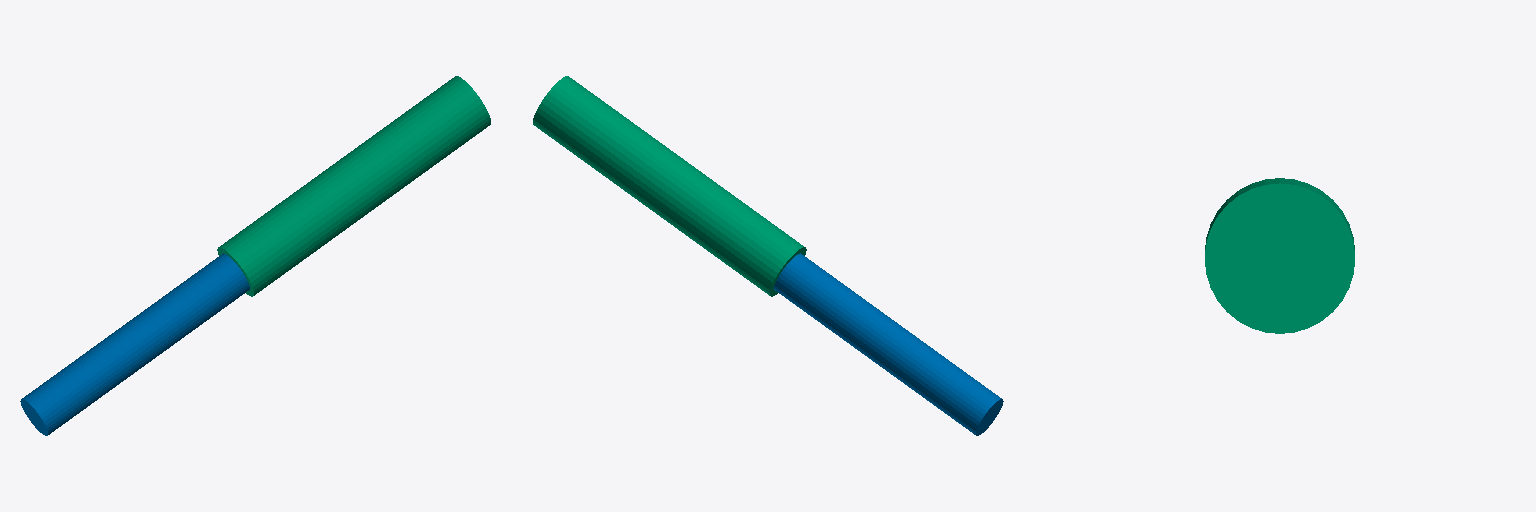
robot.urdf — allegro_arm:
<?xml version="1.0" ?>
<!-- =================================================================================== -->
<!-- |    This document was autogenerated by xacro from allegro_hand_description_right.xacro | -->
<!-- |    EDITING THIS FILE BY HAND IS NOT RECOMMENDED                                 | -->
<!-- =================================================================================== -->
<robot name="allegro_arm" xmlns:xacro="http://www.ros.org/wiki/xacro">
  <!-- ======================== BASE PARAMS ========================= -->
  <!-- ======================== FINGER PARAMS ======================== -->
  <!-- full height from joint to tip. when used,
    the radius of the finger tip sphere will be subtracted
    and one fixed link will be added for the tip. -->
  <!-- ========================= THUMB PARAMS ========================= -->
  <!-- ========================= LIMITS ========================= -->
  <!-- ============================================================================= -->
  <!-- PALM -->
  <link name="hand_root">
    <inertial>
      <mass value="1.0"/>
      <origin rpy="0 0 0" xyz="0 0 0"/>
      <inertia ixx="1.01666658333e-06" ixy="0.0" ixz="0.0" iyy="6.47677333333e-07" iyz="0.0" izz="1.01666658333e-06"/>
    </inertial>
  </link>
  <link name="aux_upper_arm">
    <inertial>
      <mass value="0.0001"/>
      <origin rpy="0 0 0" xyz="0 0 0"/>
      <inertia ixx="1.01666658333e-06" ixy="0.0" ixz="0.0" iyy="6.47677333333e-07" iyz="0.0" izz="1.01666658333e-06"/>
    </inertial>      
  </link>
  <joint name="shoulder_0" type="revolute">
    <axis xyz="1 0 0"/>
    <limit effort="15" lower="-3.1415" upper="3.1415" velocity="7"/>
    <parent link="hand_root"/>
    <child link="aux_upper_arm"/>
    <origin rpy="0 2 3.1416" xyz="0.5 0.0 0.2"/>
    <dynamics damping="3" friction="0"/>
  </joint>
  <link name="upper_arm">
    <visual>
      <geometry>
        <cylinder length="0.4" radius="0.04"/>
      </geometry>
      <origin rpy="0 0 0" xyz="0 0 0.2"/>
    </visual>
    <inertial>
      <mass value="1.0"/>
      <origin rpy="0 0 0" xyz="0 0 0.2"/>
      <inertia ixx="1.01666658333e-06" ixy="0.0" ixz="0.0" iyy="6.47677333333e-07" iyz="0.0" izz="1.01666658333e-06"/>
    </inertial>
  </link>
  <joint name="shoulder_1" type="revolute">
    <axis xyz="0 1 0"/>
    <limit effort="15" lower="-3.1415926" upper="3.1415926" velocity="7"/>
    <parent link="aux_upper_arm"/>
    <child link="upper_arm"/>
    <origin rpy="0 0 0" xyz="0 0 0"/>
    <dynamics damping="3" friction="0"/>
  </joint>

  <link name="aux_forearm">
    <inertial>
      <mass value="0.0001"/>
      <origin rpy="0 0 0" xyz="0 0 0"/>
      <inertia ixx="1.01666658333e-06" ixy="0.0" ixz="0.0" iyy="6.47677333333e-07" iyz="0.0" izz="1.01666658333e-06"/>
    </inertial> 
  </link>
  <joint name="elbow_0" type="revolute">
    <axis xyz="0 0 1"/>
    <limit effort="15" lower="-2.0" upper="2.0" velocity="7"/>
    <parent link="upper_arm"/>
    <child link="aux_forearm"/>
    <origin rpy="0 0 0" xyz="0 0.0 0.4"/>
    <dynamics damping="3" friction="0"/>
  </joint>
  <link name="forearm">
    <visual>
      <geometry>
        <cylinder length="0.34" radius="0.03"/>
      </geometry>
      <origin rpy="0 0 0" xyz="0 0 0.17"/>
    </visual>
    <inertial>
      <mass value="1.0"/>
      <origin rpy="0 0 0" xyz="0 0 0.17"/>
      <inertia ixx="1.01666658333e-06" ixy="0.0" ixz="0.0" iyy="6.47677333333e-07" iyz="0.0" izz="1.01666658333e-06"/>
    </inertial>
  </link>
  <joint name="elbow_1" type="revolute">
    <axis xyz="0 1 0"/>
    <limit effort="15" lower="-2.00" upper="2.0" velocity="7"/>
    <parent link="aux_forearm"/>
    <child link="forearm"/>
    <origin rpy="0 0 0" xyz="0 0 0"/>
    <dynamics damping="3" friction="0"/>
  </joint>
  <link name="palm_link">
    <visual>
      <geometry>
        <mesh filename="../meshes/base_link.STL"/>
      </geometry>
      <origin rpy="0 0 0" xyz="0 0 0.1 "/>
      <material name="black">
        <color rgba="0.2 0.2 0.2 1"/>
      </material>
    </visual>
    <collision>
      <origin rpy="0 0 0" xyz="-0.009300 0 0.0525"/>
      <geometry>
        <box size="0.0408 0.1130 0.095"/>
      </geometry>
    </collision>
    <inertial>
      <origin rpy="0 0 0" xyz="0 0 0.1475"/>
      <mass value="0.4154"/>
      <inertia ixx="1e-4" ixy="0.0" ixz="0.0" iyy="1e-4" iyz="0.0" izz="1e-4"/>
    </inertial>
  </link>
  <joint name="wrist_0" type="revolute">
    <axis xyz="0 1 0"/>
    <limit effort="15" lower="-1.47" upper="1.47" velocity="7"/>
    <parent link="forearm"/>
    <child link="palm_link"/>
    <origin rpy="0 0 0" xyz="0 0.0 0.34"/>
    <dynamics damping="3" friction="0"/>
  </joint>
  <!-- ============================================================================= -->
  <!-- FINGERS -->
  <!-- RIGHT HAND due to which finger is number 0 -->
  <!-- for LEFT HAND switch the sign of the **offset_origin_y** and **finger_angle_r** parameters-->
  <!-- [LINK 0, 4, 8] -->
  <link name="link_0">
    <visual>
      <geometry>
        <mesh filename="../meshes/link_0.0.STL"/>
      </geometry>
      <material name="black"/>
    </visual>
    <collision>
      <geometry>
        <box size="0.0196 0.0275 0.0164"/>
      </geometry>
      <origin rpy="0 0 0" xyz="0 0 0.0082"/>
    </collision>
    <inertial>
      <mass value="0.0119"/>
      <origin rpy="0 0 0" xyz="0 0 0"/>
      <inertia ixx="1.01666658333e-06" ixy="0.0" ixz="0.0" iyy="6.47677333333e-07" iyz="0.0" izz="1.01666658333e-06"/>
    </inertial>
  </link>
  <joint name="joint_0" type="revolute">
    <axis xyz="0 0 1"/>
    <limit effort="15" lower="-0.47" upper="0.47" velocity="7"/>
    <parent link="palm_link"/>
    <child link="link_0"/>
    <origin rpy="-0.08726646255 0 0" xyz="0 0.0435 0.098458"/>
    <dynamics damping="3" friction="0"/>
  </joint>
  <!-- [LINK 1, 5, 9] -->
  <link name="link_1">
    <visual>
      <geometry>
        <mesh filename="../meshes/link_1.0.STL"/>
      </geometry>
      <material name="black"/>
    </visual>
    <collision>
      <geometry>
        <box size="0.0196 0.0275 0.054"/>
      </geometry>
      <origin rpy="0 0 0" xyz="0 0 0.027"/>
    </collision>
    <inertial>
      <mass value="0.065"/>
      <origin rpy="0 0 0" xyz="0 0 0"/>
      <inertia ixx="7.19218e-05" ixy="0" ixz="0" iyy="7.4377e-05" iyz="7.32186e-07" izz="5.40622e-06"/>
    </inertial>
  </link>
  <joint name="joint_1" type="revolute">
    <limit effort="15" lower="-0.196" upper="1.61" velocity="7"/>
    <axis xyz="0 1 0"/>
    <parent link="link_0"/>
    <child link="link_1"/>
    <origin xyz="0 0 0.0164"/>
    <dynamics damping="3" friction="0"/>
  </joint>
  <!-- [LINK 2, 6, 10]-->
  <link name="link_2">
    <visual>
      <geometry>
        <mesh filename="../meshes/link_2.0.STL"/>
      </geometry>
      <material name="black"/>
    </visual>
    <collision>
      <geometry>
        <box size="0.0196 0.0275 0.0384"/>
      </geometry>
      <origin rpy="0 0 0" xyz="0 0 0.0192"/>
    </collision>
    <inertial>
      <mass value="0.0355"/>
      <origin rpy="0 0 0" xyz="0 0 0"/>
      <inertia ixx="3.16925e-05" ixy="1.07094e-09" ixz="-4.91273e-09" iyy="3.10516e-05" iyz="3.87549e-08" izz="3.20319e-06"/>
    </inertial>
  </link>
  <joint name="joint_2" type="revolute">
    <axis xyz="0 1 0"/>
    <limit effort="15" lower="-0.174" upper="1.709" velocity="7"/>
    <parent link="link_1"/>
    <child link="link_2"/>
    <origin xyz="0 0 0.054"/>
    <dynamics damping="8" friction="0"/>
  </joint>
  <!-- [LINK 3, 7, 11] -->
  <link name="link_3">
    <visual>
      <geometry>
        <mesh filename="../meshes/link_3.0.STL"/>
      </geometry>
      <material name="black"/>
    </visual>
    <collision>
      <geometry>
        <box size="0.0196 0.0275 0.0267"/>
      </geometry>
      <origin rpy="0 0 0" xyz="0 0 0.01335"/>
    </collision>
    <inertial>
      <mass value="0.0096"/>
      <origin rpy="0 0 0" xyz="0 0 0"/>
      <inertia ixx="2.13975e-06" ixy="1.59554e-09" ixz="-7.47528e-09" iyy="1.52036e-06" iyz="-9.89336e-09" izz="1.20271e-06"/>
    </inertial>
  </link>
  <joint name="joint_3" type="revolute">
    <axis xyz="0 1 0"/>
    <limit effort="15" lower="-0.227" upper="1.618" velocity="7"/>
    <parent link="link_2"/>
    <child link="link_3"/>
    <origin xyz="0 0 0.0384"/>
    <dynamics damping="10" friction="0"/>
  </joint>
  <!-- [FINGER TIP] -->
  <link name="link_3_tip">
    <visual>
      <geometry>
        <mesh filename="../meshes/link_3.0_tip.STL"/>
      </geometry>
      <material name="white">
        <color rgba=".9 .9 .9 1"/>
      </material>
    </visual>
    <collision>
      <geometry>
        <sphere radius="0.012"/>
      </geometry>
    </collision>
    <inertial>
      <mass value="0.0168"/>
      <origin rpy="0 0 0" xyz="0 0 0"/>
      <inertia ixx="1.19599e-05" ixy="0" ixz="0" iyy="1.19598e-05" iyz="0" izz="1.10345e-06"/>
    </inertial>
  </link>
  <joint name="joint_3_tip" type="fixed">
    <parent link="link_3"/>
    <child link="link_3_tip"/>
    <origin rpy="0 0 0" xyz="0 0 0.0267"/>
  </joint>
  <!-- [LINK 0, 4, 8] -->
  <link name="link_4">
    <visual>
      <geometry>
        <mesh filename="../meshes/link_0.0.STL"/>
      </geometry>
      <material name="black"/>
    </visual>
    <collision>
      <geometry>
        <box size="0.0196 0.0275 0.0164"/>
      </geometry>
      <origin rpy="0 0 0" xyz="0 0 0.0082"/>
    </collision>
    <inertial>
      <mass value="0.0119"/>
      <origin rpy="0 0 0" xyz="0 0 0"/>
      <inertia ixx="1.95377e-06" ixy="3.03372e-09" ixz="8.92323e-08" iyy="1.17908e-06" iyz="-3.7069e-08" izz="1.49673e-06"/>
    </inertial>
  </link>
  <joint name="joint_4" type="revolute">
    <axis xyz="0 0 1"/>
    <limit effort="15" lower="-0.47" upper="0.47" velocity="7"/>
    <parent link="palm_link"/>
    <child link="link_4"/>
    <origin rpy="0.0 0 0" xyz="0 0 0.1007"/>
    <dynamics damping="3" friction="0"/>
  </joint>
  <!-- [LINK 1, 5, 9] -->
  <link name="link_5">
    <visual>
      <geometry>
        <mesh filename="../meshes/link_1.0.STL"/>
      </geometry>
      <material name="black"/>
    </visual>
    <collision>
      <geometry>
        <box size="0.0196 0.0275 0.054"/>
      </geometry>
      <origin rpy="0 0 0" xyz="0 0 0.027"/>
    </collision>
    <inertial>
      <mass value="0.065"/>
      <origin rpy="0 0 0" xyz="0 0 0"/>
      <inertia ixx="7.19218e-05" ixy="0" ixz="0" iyy="7.4377e-05" iyz="7.32186e-07" izz="5.40622e-06"/>
    </inertial>
  </link>
  <joint name="joint_5" type="revolute">
    <limit effort="15" lower="-0.196" upper="1.61" velocity="7"/>
    <axis xyz="0 1 0"/>
    <parent link="link_4"/>
    <child link="link_5"/>
    <origin xyz="0 0 0.0164"/>
    <dynamics damping="3" friction="0"/>
  </joint>
  <!-- [LINK 2, 6, 10]-->
  <link name="link_6">
    <visual>
      <geometry>
        <mesh filename="../meshes/link_2.0.STL"/>
      </geometry>
      <material name="black"/>
    </visual>
    <collision>
      <geometry>
        <box size="0.0196 0.0275 0.0384"/>
      </geometry>
      <origin rpy="0 0 0" xyz="0 0 0.0192"/>
    </collision>
    <inertial>
      <mass value="0.0355"/>
      <origin rpy="0 0 0" xyz="0 0 0"/>
      <inertia ixx="3.16925e-05" ixy="1.07094e-09" ixz="-4.91273e-09" iyy="3.10516e-05" iyz="3.87549e-08" izz="3.20319e-06"/>
    </inertial>
  </link>
  <joint name="joint_6" type="revolute">
    <axis xyz="0 1 0"/>
    <limit effort="15" lower="-0.174" upper="1.709" velocity="7"/>
    <parent link="link_5"/>
    <child link="link_6"/>
    <origin xyz="0 0 0.054"/>
    <dynamics damping="8" friction="0"/>
  </joint>
  <!-- [LINK 3, 7, 11] -->
  <link name="link_7">
    <visual>
      <geometry>
        <mesh filename="../meshes/link_3.0.STL"/>
      </geometry>
      <material name="black"/>
    </visual>
    <collision>
      <geometry>
        <box size="0.0196 0.0275 0.0267"/>
      </geometry>
      <origin rpy="0 0 0" xyz="0 0 0.01335"/>
    </collision>
    <inertial>
      <mass value="0.0096"/>
      <origin rpy="0 0 0" xyz="0 0 0"/>
      <inertia ixx="2.13975e-06" ixy="1.59554e-09" ixz="-7.47528e-09" iyy="1.52036e-06" iyz="-9.89336e-09" izz="1.20271e-06"/>
    </inertial>
  </link>
  <joint name="joint_7" type="revolute">
    <axis xyz="0 1 0"/>
    <limit effort="15" lower="-0.227" upper="1.618" velocity="7"/>
    <parent link="link_6"/>
    <child link="link_7"/>
    <origin xyz="0 0 0.0384"/>
    <dynamics damping="10" friction="0"/>
  </joint>
  <!-- [FINGER TIP] -->
  <link name="link_7_tip">
    <visual>
      <geometry>
        <mesh filename="../meshes/link_3.0_tip.STL"/>
      </geometry>
      <material name="red">
        <color rgba=".9 .0 .0 1"/>
      </material>
    </visual>
    <collision>
      <geometry>
        <sphere radius="0.012"/>
      </geometry>
    </collision>
    <inertial>
      <mass value="0.0168"/>
      <origin rpy="0 0 0" xyz="0 0 0"/>
      <inertia ixx="1.19599e-05" ixy="0" ixz="0" iyy="1.19598e-05" iyz="0" izz="1.10345e-06"/>
    </inertial>
  </link>
  <joint name="joint_7_tip" type="fixed">
    <parent link="link_7"/>
    <child link="link_7_tip"/>
    <origin rpy="0 0 0" xyz="0 0 0.0267"/>
  </joint>
  <!-- [LINK 0, 4, 8] -->
  <link name="link_8">
    <visual>
      <geometry>
        <mesh filename="../meshes/link_0.0.STL"/>
      </geometry>
      <material name="black"/>
    </visual>
    <collision>
      <geometry>
        <box size="0.0196 0.0275 0.0164"/>
      </geometry>
      <origin rpy="0 0 0" xyz="0 0 0.0082"/>
    </collision>
    <inertial>
      <mass value="0.0119"/>
      <origin rpy="0 0 0" xyz="0 0 0"/>
      <inertia ixx="1.95377e-06" ixy="3.03372e-09" ixz="8.92323e-08" iyy="1.17908e-06" iyz="-3.7069e-08" izz="1.49673e-06"/>
    </inertial>
  </link>
  <joint name="joint_8" type="revolute">
    <axis xyz="0 0 1"/>
    <limit effort="15" lower="-0.47" upper="0.47" velocity="7"/>
    <parent link="palm_link"/>
    <child link="link_8"/>
    <origin rpy="0.08726646255 0 0" xyz="0 -0.0435 0.098458"/>
    <dynamics damping="3" friction="0"/>
  </joint>
  <!-- [LINK 1, 5, 9] -->
  <link name="link_9">
    <visual>
      <geometry>
        <mesh filename="../meshes/link_1.0.STL"/>
      </geometry>
      <material name="black"/>
    </visual>
    <collision>
      <geometry>
        <box size="0.0196 0.0275 0.054"/>
      </geometry>
      <origin rpy="0 0 0" xyz="0 0 0.027"/>
    </collision>
    <inertial>
      <mass value="0.065"/>
      <origin rpy="0 0 0" xyz="0 0 0"/>
      <inertia ixx="7.19218e-05" ixy="0" ixz="0" iyy="7.4377e-05" iyz="7.32186e-07" izz="5.40622e-06"/>
    </inertial>
  </link>
  <joint name="joint_9" type="revolute">
    <limit effort="15" lower="-0.196" upper="1.61" velocity="7"/>
    <axis xyz="0 1 0"/>
    <parent link="link_8"/>
    <child link="link_9"/>
    <origin xyz="0 0 0.0164"/>
    <dynamics damping="3" friction="0"/>
  </joint>
  <!-- [LINK 2, 6, 10]-->
  <link name="link_10">
    <visual>
      <geometry>
        <mesh filename="../meshes/link_2.0.STL"/>
      </geometry>
      <material name="black"/>
    </visual>
    <collision>
      <geometry>
        <box size="0.0196 0.0275 0.0384"/>
      </geometry>
      <origin rpy="0 0 0" xyz="0 0 0.0192"/>
    </collision>
    <inertial>
      <mass value="0.0355"/>
      <origin rpy="0 0 0" xyz="0 0 0"/>
      <inertia ixx="3.16925e-05" ixy="1.07094e-09" ixz="-4.91273e-09" iyy="3.10516e-05" iyz="3.87549e-08" izz="3.20319e-06"/>
    </inertial>
  </link>
  <joint name="joint_10" type="revolute">
    <axis xyz="0 1 0"/>
    <limit effort="15" lower="-0.174" upper="1.709" velocity="7"/>
    <parent link="link_9"/>
    <child link="link_10"/>
    <origin xyz="0 0 0.054"/>
    <dynamics damping="8" friction="0"/>
  </joint>
  <!-- [LINK 3, 7, 11] -->
  <link name="link_11">
    <visual>
      <geometry>
        <mesh filename="../meshes/link_3.0.STL"/>
      </geometry>
      <material name="black"/>
    </visual>
    <collision>
      <geometry>
        <box size="0.0196 0.0275 0.0267"/>
      </geometry>
      <origin rpy="0 0 0" xyz="0 0 0.01335"/>
    </collision>
    <inertial>
      <mass value="0.0096"/>
      <origin rpy="0 0 0" xyz="0 0 0"/>
      <inertia ixx="2.13975e-06" ixy="1.59554e-09" ixz="-7.47528e-09" iyy="1.52036e-06" iyz="-9.89336e-09" izz="1.20271e-06"/>
    </inertial>
  </link>
  <joint name="joint_11" type="revolute">
    <axis xyz="0 1 0"/>
    <limit effort="15" lower="-0.227" upper="1.618" velocity="7"/>
    <parent link="link_10"/>
    <child link="link_11"/>
    <origin xyz="0 0 0.0384"/>
    <dynamics damping="10" friction="0"/>
  </joint>
  <!-- [FINGER TIP] -->
  <link name="link_11_tip">
    <visual>
      <geometry>
        <mesh filename="../meshes/link_3.0_tip.STL"/>
      </geometry>
      <material name="blue">
        <color rgba=".0 .0 .9 1"/>
      </material>
    </visual>
    <collision>
      <geometry>
        <sphere radius="0.012"/>
      </geometry>
    </collision>
    <inertial>
      <mass value="0.0168"/>
      <origin rpy="0 0 0" xyz="0 0 0"/>
      <inertia ixx="1.19599e-05" ixy="0" ixz="0" iyy="1.19598e-05" iyz="0" izz="1.10345e-06"/>
    </inertial>
  </link>
  <joint name="joint_11_tip" type="fixed">
    <parent link="link_11"/>
    <child link="link_11_tip"/>
    <origin rpy="0 0 0" xyz="0 0 0.0267"/>
  </joint>
  <!-- THUMB -->
  <!-- [LINK 12] -->
  <link name="link_12">
    <visual>
      <geometry>
        <mesh filename="../meshes/link_12.0_right.STL"/>
      </geometry>
      <material name="black">
        <color rgba=".2 .2 .2 1"/>
      </material>
      <!-- <origin rpy="3.1415926518 0 0" xyz="0 0 0"/> -->
      <origin rpy="0 0 0" xyz="0 0 0"/>
    </visual>
    <collision>
      <geometry>
        <box size="0.0358 0.034 0.0455"/>
      </geometry>
      <origin rpy="0 0 0" xyz="-0.0179 0.009 0.0145"/>
    </collision>
    <inertial>
      <mass value="0.0176"/>
      <origin rpy="0 0 0" xyz="0 0 0"/>
      <inertia ixx="8.13883e-06" ixy="2.55226e-06" ixz="3.89933e-06" iyy="1.31421e-05" iyz="-1.46267e-06" izz="1.00171e-05"/>
    </inertial>
  </link>
  <joint name="joint_12" type="revolute">
    <axis xyz="-1 0 0"/>
    <limit effort="15" lower="-0.11" upper="1.396" velocity="7"/>
    <parent link="palm_link"/>
    <child link="link_12"/>
    <origin rpy="0 -1.65806278845 -1.5707963259" xyz="-0.0182 0.019333 0.054013"/>
    <dynamics damping="3" friction="0"/>
  </joint>
  <!-- [LINK 13] -->
  <link name="link_13">
    <visual>
      <geometry>
        <mesh filename="../meshes/link_13.0.STL"/>
      </geometry>
      <material name="black">
        <color rgba=".2 .2 .2 1"/>
      </material>
    </visual>
    <collision>
      <geometry>
        <box size="0.0196 0.0275 0.0177"/>
      </geometry>
      <origin rpy="0 0 0" xyz="0 0 0.00885"/>
    </collision>
    <inertial>
      <mass value="0.0119"/>
      <origin rpy="0 0 0" xyz="0 0 0"/>
      <inertia ixx="1.9263e-06" ixy="3.05433e-09" ixz="8.86582e-08" iyy="1.15276e-06" iyz="-3.64521e-08" izz="1.4957e-06"/>
    </inertial>
  </link>
  <joint name="joint_13" type="revolute">
    <axis xyz="0 0 1"/>
    <limit effort="15" lower="-0.105" upper="1.163" velocity="7"/>
    <parent link="link_12"/>
    <child link="link_13"/>
    <origin xyz="-0.027 0.005 0.0399"/>
    <dynamics damping="3" friction="0"/>
  </joint>
  <!-- [LINK 14] -->
  <link name="link_14">
    <visual>
      <geometry>
        <mesh filename="../meshes/link_14.0.STL"/>
      </geometry>
      <material name="black">
                </material>
    </visual>
    <collision>
      <geometry>
        <box size="0.0196 0.0275 0.0514"/>
      </geometry>
      <origin rpy="0 0 0" xyz="0 0 0.0257"/>
    </collision>
    <inertial>
      <mass value="0.038"/>
      <origin rpy="0 0 0" xyz="0 0 0"/>
      <inertia ixx="3.67044e-05" ixy="1.02277e-09" ixz="1.4854e-07" iyy="3.54042e-05" iyz="-3.67203e-08" izz="3.63275e-06"/>
    </inertial>
  </link>
  <joint name="joint_14" type="revolute">
    <axis xyz="0 1 0"/>
    <limit effort="15" lower="-0.189" upper="1.644" velocity="7"/>
    <parent link="link_13"/>
    <child link="link_14"/>
    <origin xyz="0 0 0.0177"/>
    <dynamics damping="3" friction="0"/>
  </joint>
  <!-- [LINK 15] -->
  <link name="link_15">
    <visual>
      <geometry>
        <mesh filename="../meshes/link_15.0.STL"/>
      </geometry>
      <material name="black">
                </material>
    </visual>
    <collision>
      <geometry>
        <box size="0.0196 0.0275 0.0423"/>
      </geometry>
      <origin rpy="0 0 0" xyz="0 0 0.02115"/>
    </collision>
    <inertial>
      <mass value="0.0388"/>
      <origin rpy="0 0 0" xyz="0 0 0"/>
      <inertia ixx="4.30919e-05" ixy="0" ixz="0" iyy="3.85425e-05" iyz="-3.0146e-08" izz="1.72974e-05"/>
    </inertial>
  </link>
  <joint name="joint_15" type="revolute">
    <axis xyz="0 1 0"/>
    <limit effort="15" lower="-0.162" upper="1.719" velocity="7"/>
    <parent link="link_14"/>
    <child link="link_15"/>
    <origin xyz="0 0 0.0514"/>
    <dynamics damping="3" friction="0"/>
  </joint>
  <!-- [FINGER TIP] -->
  <link name="link_15_tip">
    <visual>
      <geometry>
        <mesh filename="../meshes/link_15.0_tip.STL"/>
      </geometry>
      <material name="green">
        <color rgba=".0 .9 .0 1"/>
      </material>
    </visual>
    <collision>
      <geometry>
        <sphere radius="0.012"/>
      </geometry>
      <origin rpy="0 0 0" xyz="0 0 0"/>
    </collision>
    <inertial>
      <mass value="0.0168"/>
      <origin rpy="0 0 0" xyz="0 0 0"/>
      <inertia ixx="1.19599e-05" ixy="0" ixz="0" iyy="1.19598e-05" iyz="0" izz="1.10345e-06"/>
    </inertial>
  </link>
  <joint name="joint_15_tip" type="fixed">
    <parent link="link_15"/>
    <child link="link_15_tip"/>
    <origin rpy="0 0 0" xyz="0 0 0.0423"/>
  </joint>
  <!-- ============================================================================= -->
  <!-- THUMB MACRO -->
  <!-- END THUMB MACRO -->
  <!-- THREE FINGER MACRO -->
  <!-- [[END]] THREE FINGER MACRO -->
</robot>

--- Render facts (derived) ---
The picture shows the robot from 3 angles, left to right: view 1: azimuth 30°, elevation 25°; view 2: azimuth 150°, elevation 25°; view 3: azimuth 270°, elevation 25°; orthographic projection.
Model allegro_arm with 26 links and 25 joints (21 revolute, 4 fixed), rooted at hand_root, posed every joint at zero.
Visible links, largest first — view 1: upper_arm, forearm; view 2: upper_arm, forearm; view 3: upper_arm.
Boxes of the visible links, x1,y1,x2,y2 form: upper_arm: [217, 76, 490, 296]; forearm: [20, 253, 249, 435]; upper_arm: [533, 76, 806, 296]; forearm: [774, 253, 1003, 435]; upper_arm: [1205, 178, 1354, 333].
Bounding box of the posed robot: 0.702 × 0.08 × 0.3716 m (x, y, z).
Meshes: 11 distinct files referenced, 0 mesh visuals loaded (none loaded); not drawn: 21 (reference not matched to a file when rendering).